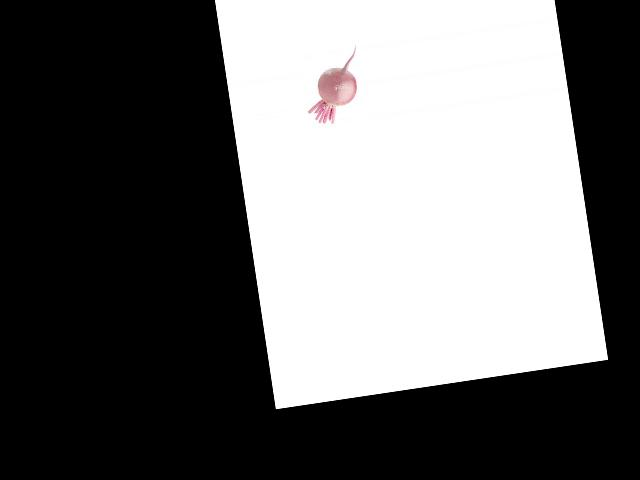beet: (299, 46, 367, 127)
